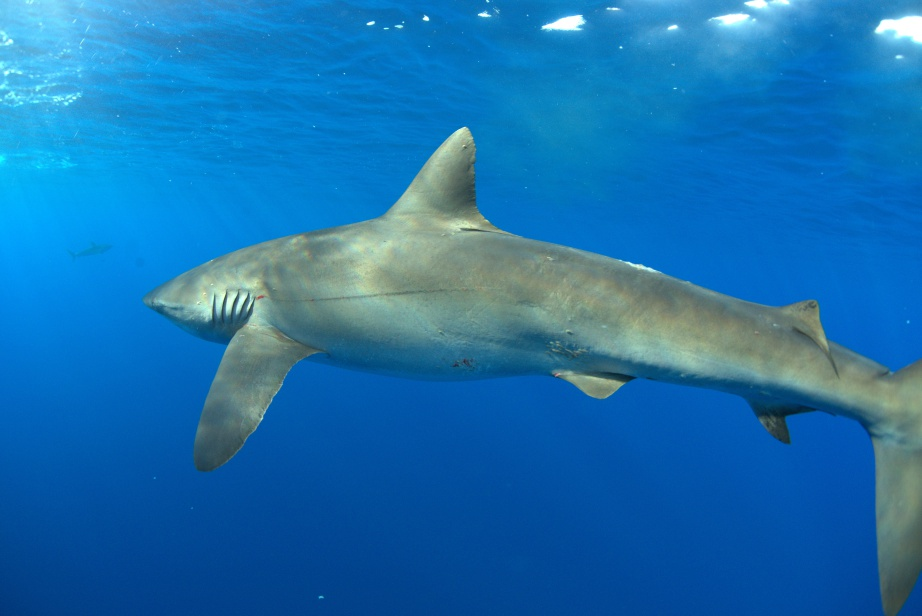Sedoso: (118, 120, 917, 616)
